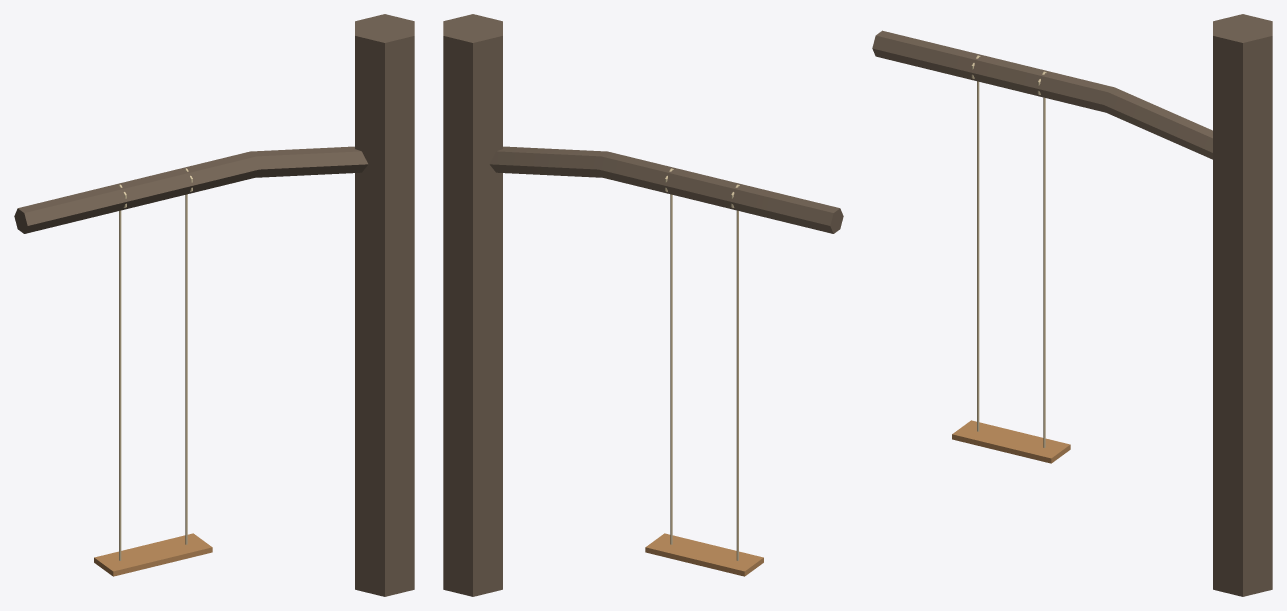
Rendered from swing_plank.far.glb.
The picture shows the model from 3 angles, left to right: view 1: azimuth 30°, elevation 25°; view 2: azimuth 150°, elevation 25°; view 3: azimuth 330°, elevation 25°; orthographic projection.
Parts seen in each view (by area): view 1: swing_plank, seat_swing_plank; view 2: swing_plank, seat_swing_plank; view 3: swing_plank, seat_swing_plank.
Boxes of the visible parts, x1,y1,x2,y2 form: swing_plank: [14, 14, 414, 596]; seat_swing_plank: [94, 194, 212, 576]; swing_plank: [443, 14, 843, 596]; seat_swing_plank: [645, 194, 763, 576]; swing_plank: [872, 14, 1272, 596]; seat_swing_plank: [952, 81, 1070, 463].
Size of the model in its own units: 2.38 by 3.2 by 0.3118.
